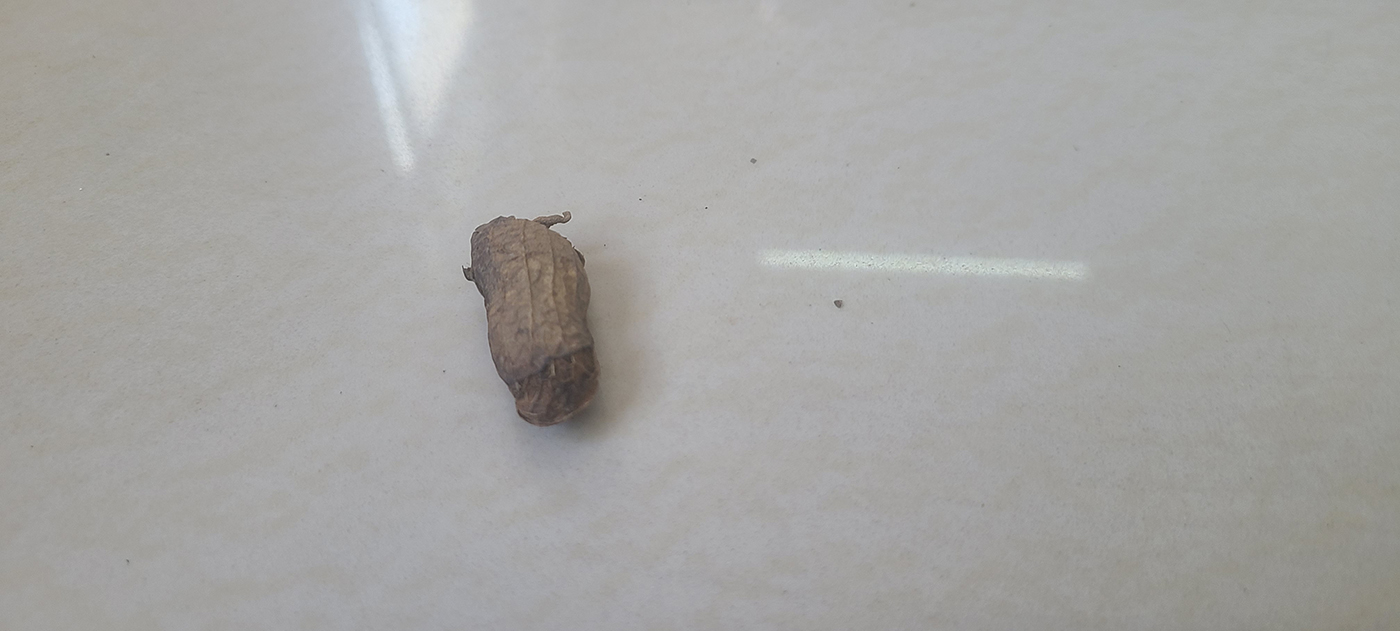l: (464, 212, 604, 425)
